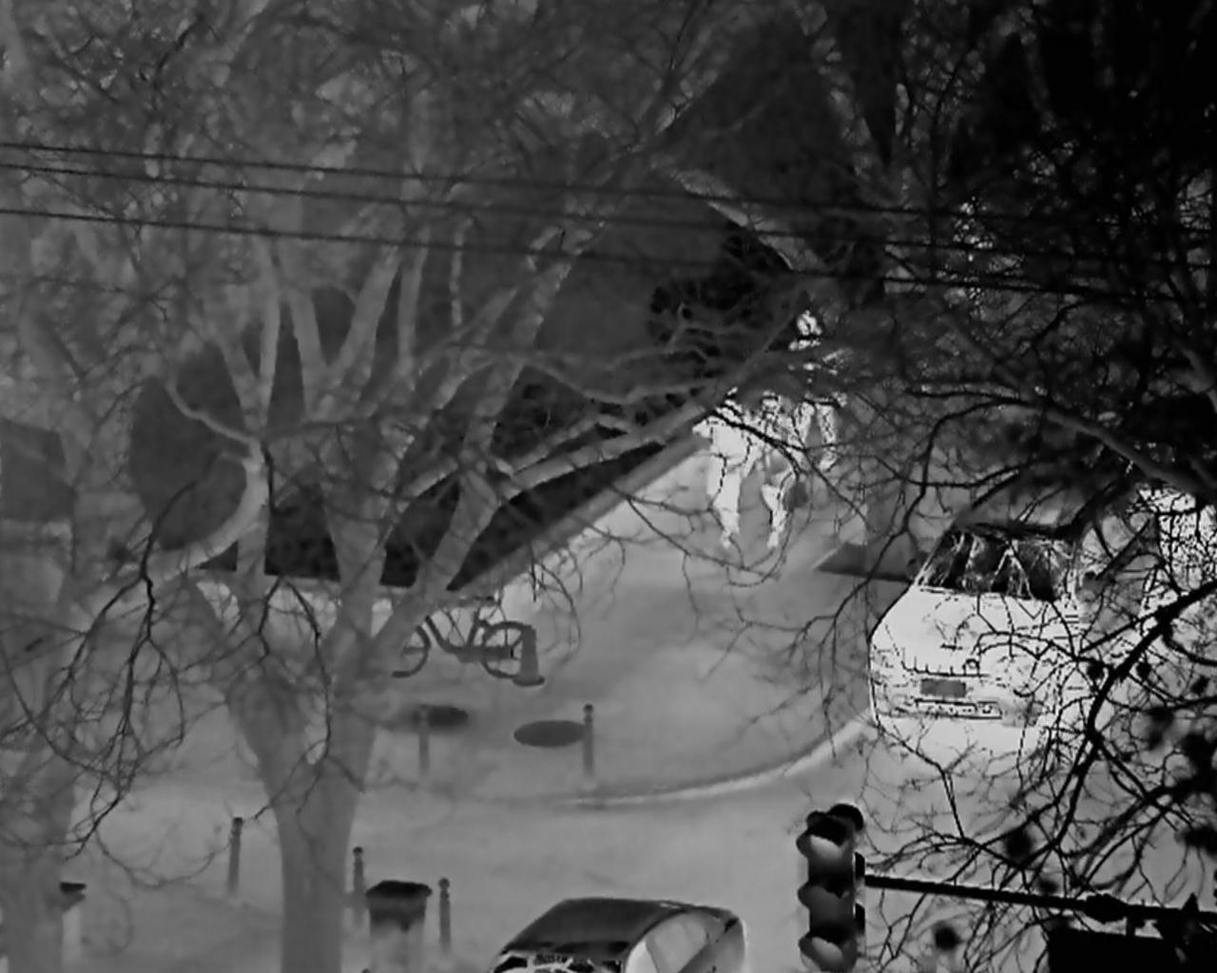person: (691, 401, 748, 547), (749, 390, 798, 548)
